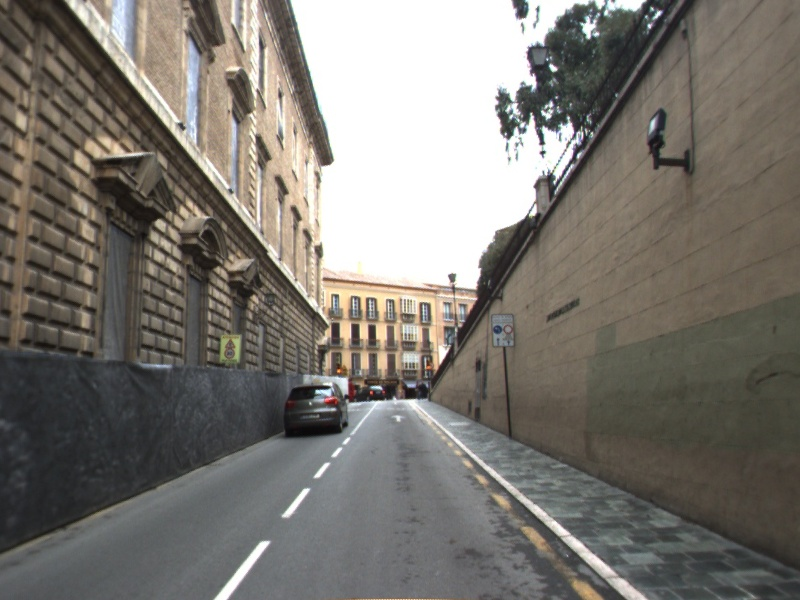STRAIGHT: (389, 412, 408, 424)
